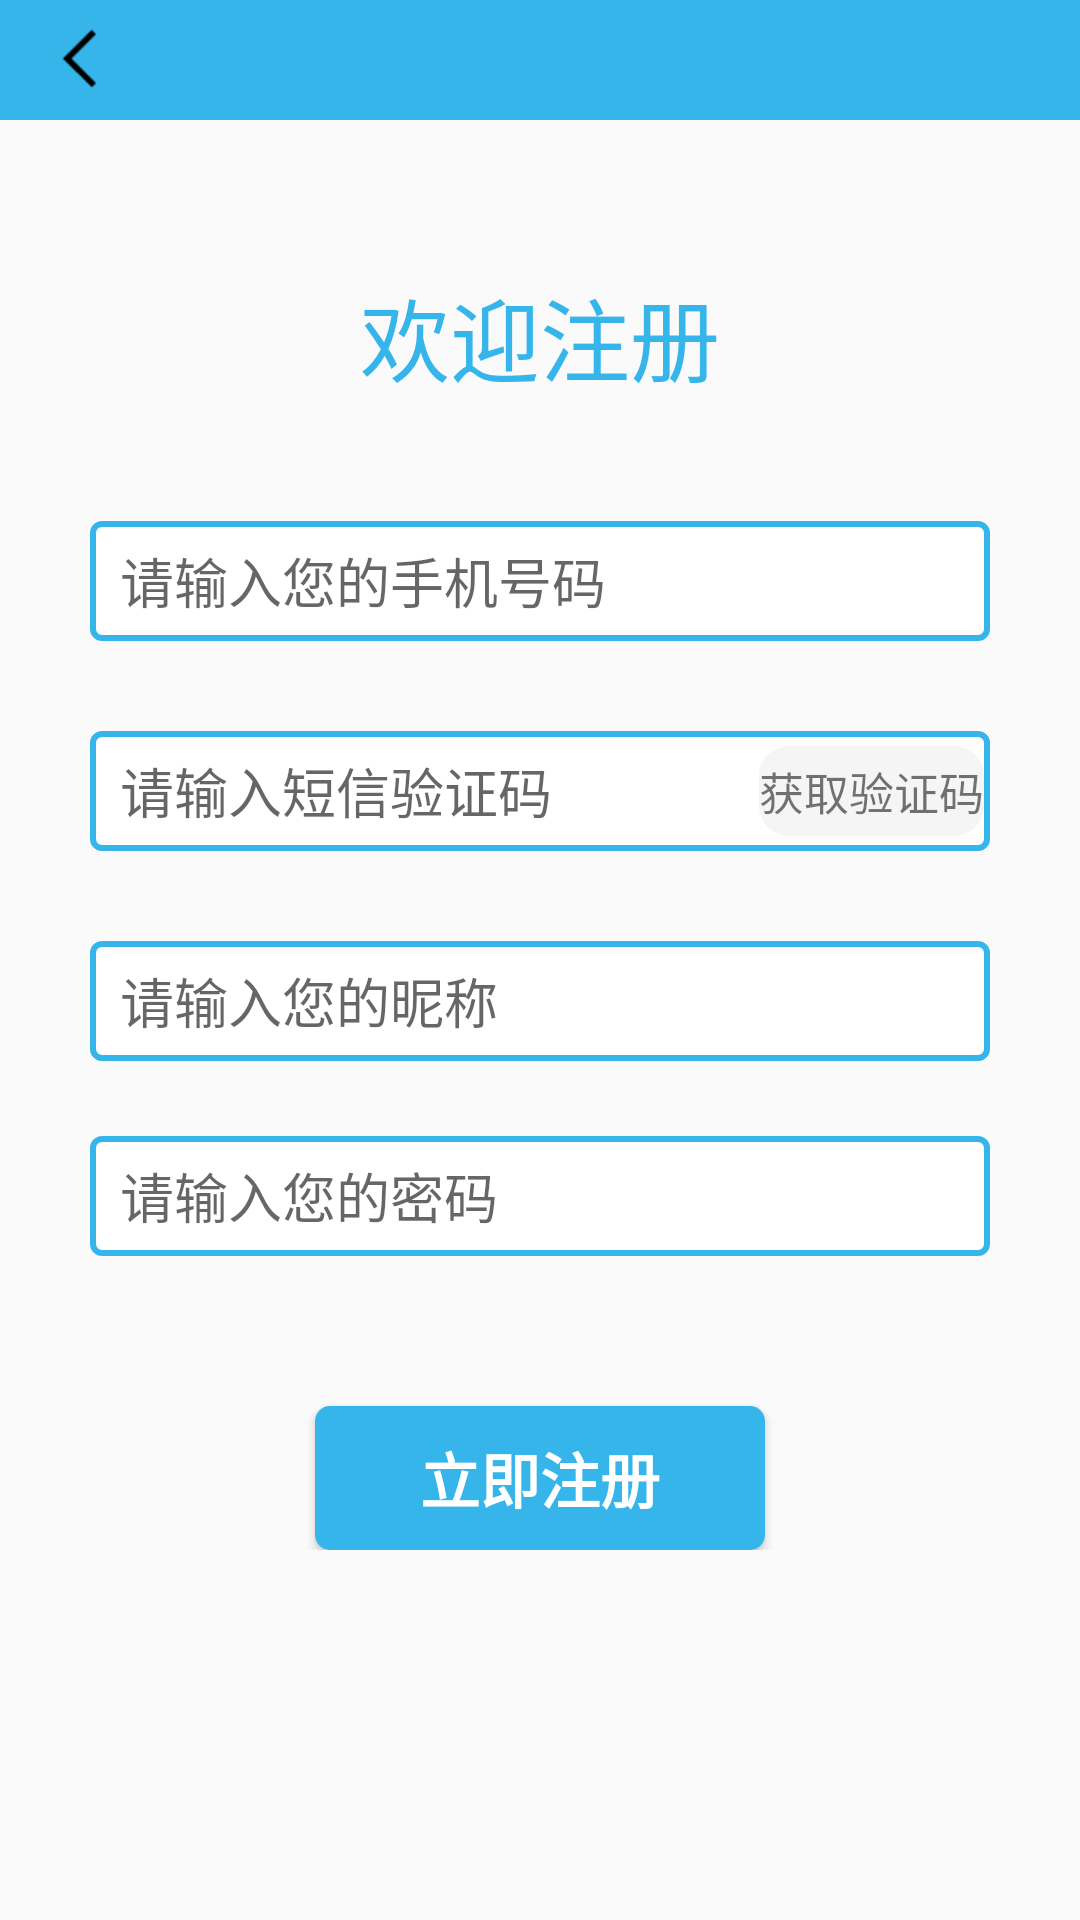

Locate icon controls on the screen. Image size 1080px×1920px, boxes as (x1, y1, x2, y2).
mine leftarrow: (62, 29, 96, 88)
